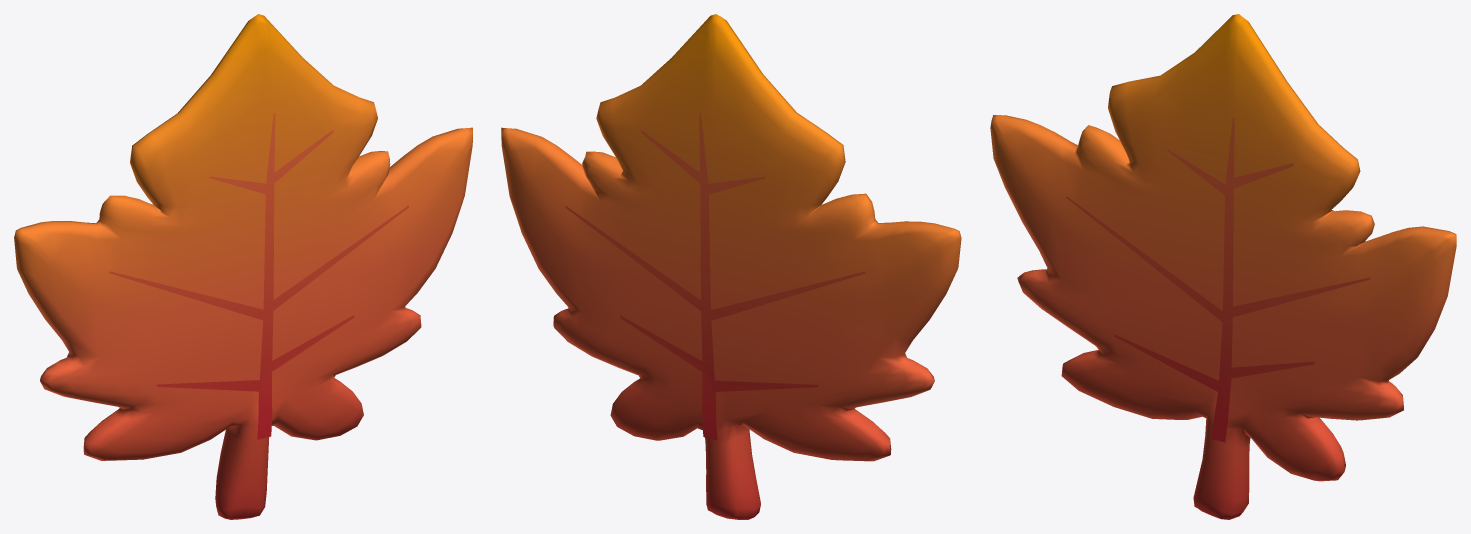
File: leaf.fbx
3 renders of one model, left to right at view 1: azimuth 30°, elevation 25°; view 2: azimuth 150°, elevation 25°; view 3: azimuth 330°, elevation 25°, orthographic.
Visible parts, largest first — view 1: leaf; view 2: leaf; view 3: leaf.
Boxes of the visible parts, x1=… form: leaf: x1=14, y1=14, x2=472, y2=519; leaf: x1=501, y1=14, x2=961, y2=519; leaf: x1=990, y1=14, x2=1456, y2=519.
Bounding box in the file's own units: 1.37 × 1.42 × 0.1376.
